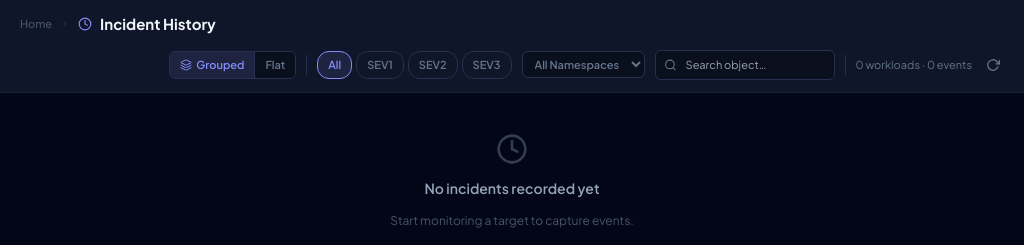
Scenario: History › Clear button resets filters
Step 1. Click the button "SEV1" → (380, 65), box [356, 51, 404, 79]
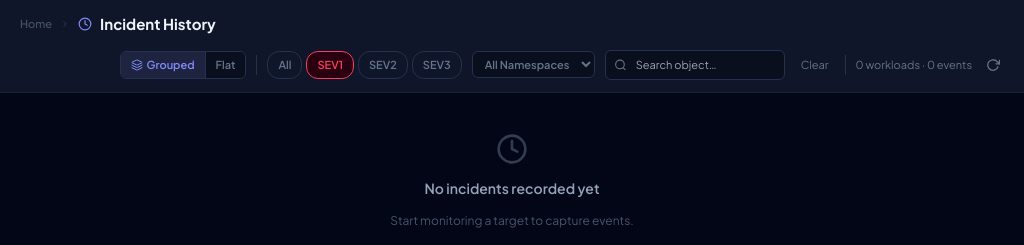
Result: the button "Clear" is shown
Step 2. Click the button "Clear" → (815, 65), box [795, 54, 835, 76]
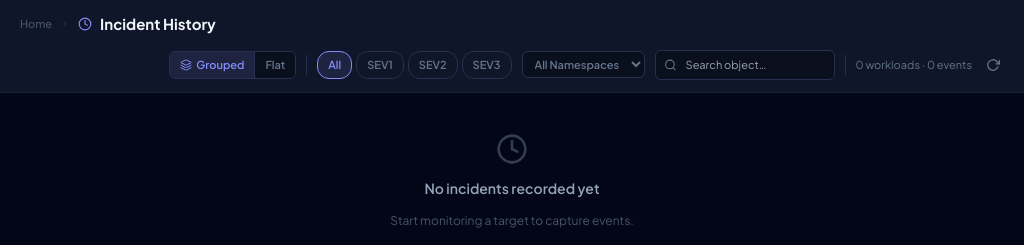
Result: the button "Clear" is gone
